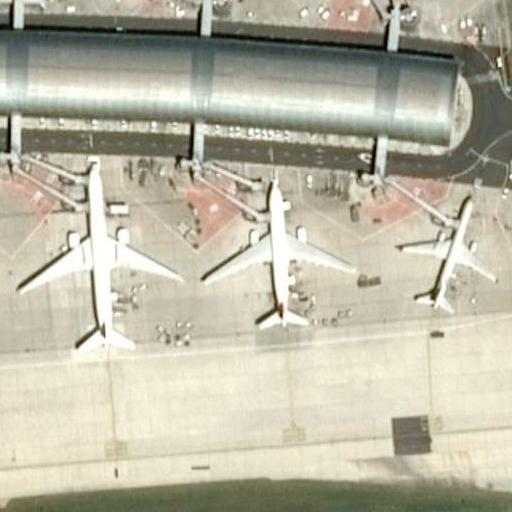Aircraft: (20, 160, 182, 353), (203, 174, 362, 330), (394, 185, 499, 320)
